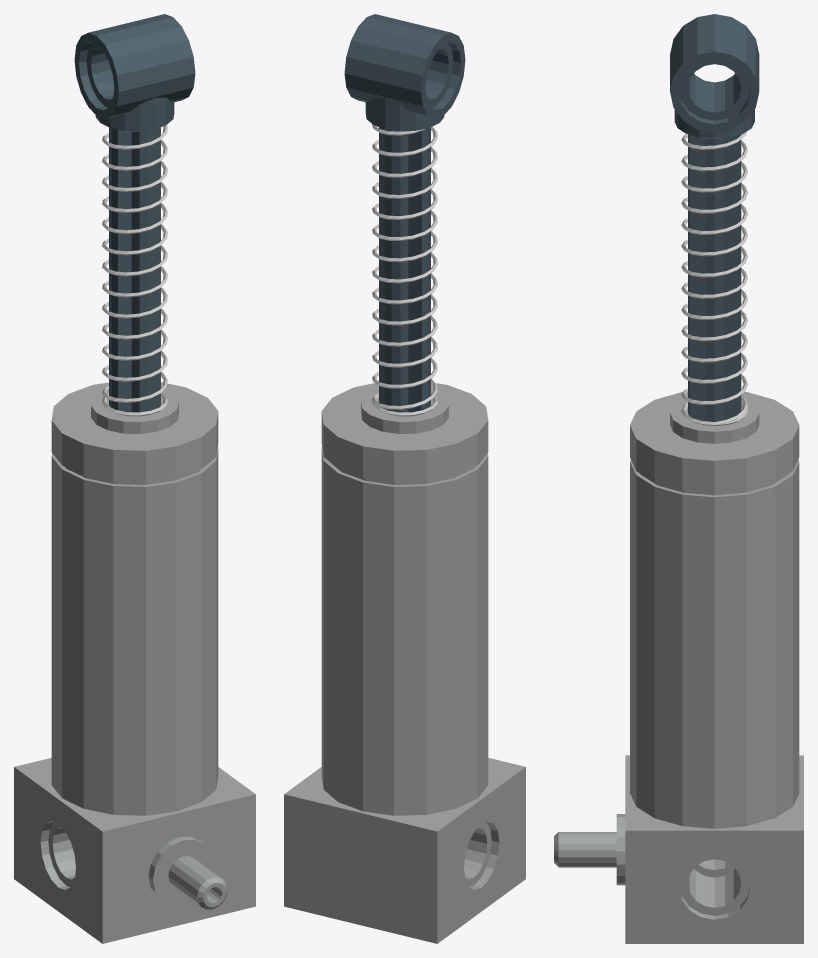
3 views of the same model, side by side, from view 1: azimuth 30°, elevation 25°; view 2: azimuth 150°, elevation 25°; view 3: azimuth 270°, elevation 25° (orthographic).
Visible parts, largest first — view 1: world; view 2: world; view 3: world.
Boxes of the visible parts, x1,y1,x2,y2 form: world: (14,14,255,943); world: (284,14,525,943); world: (554,14,803,943).
Bounding box in the file's own units: 0.016 × 0.0864 × 0.0224.
